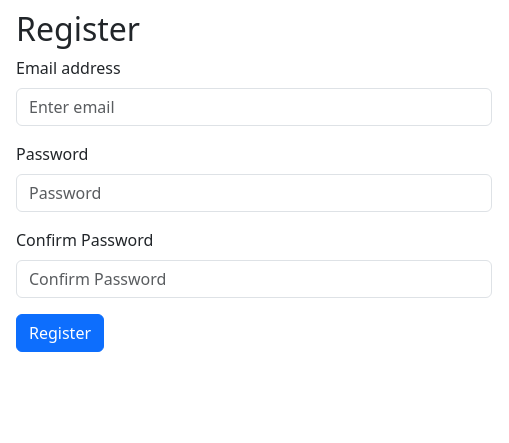
Test: Register Component › validates password mismatch
Type "test@example.com" into the field labelled "Email address" at (254, 107), box [16,88,492,126]
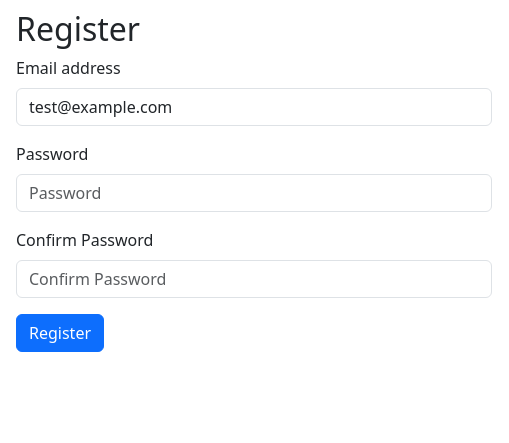
Type "password123" into the password field labelled "Password" at (254, 193), box [16,174,492,212]
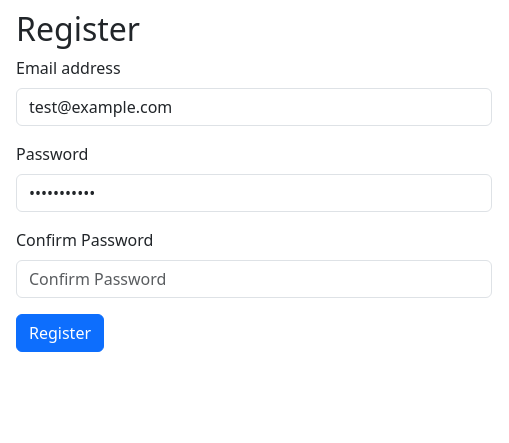
Type "password456" into the password field labelled "Confirm Password" at (254, 279), box [16,260,492,298]
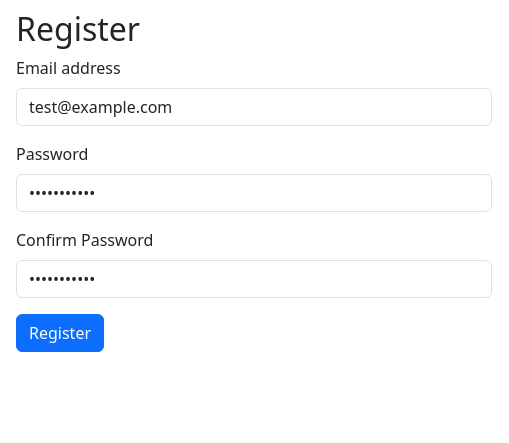
Click the button "Register" at (60, 333), box [16,314,104,352]
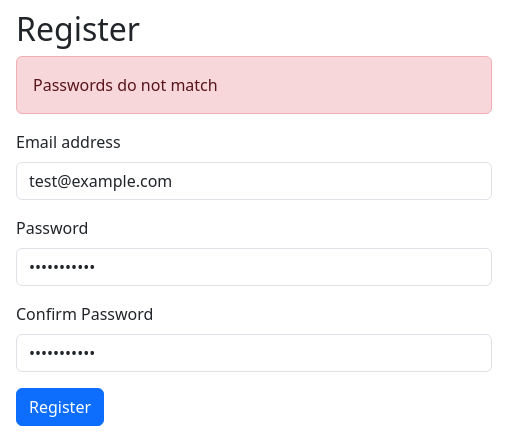
Result: the text "Passwords do not match" is shown at [16,56,492,114]
